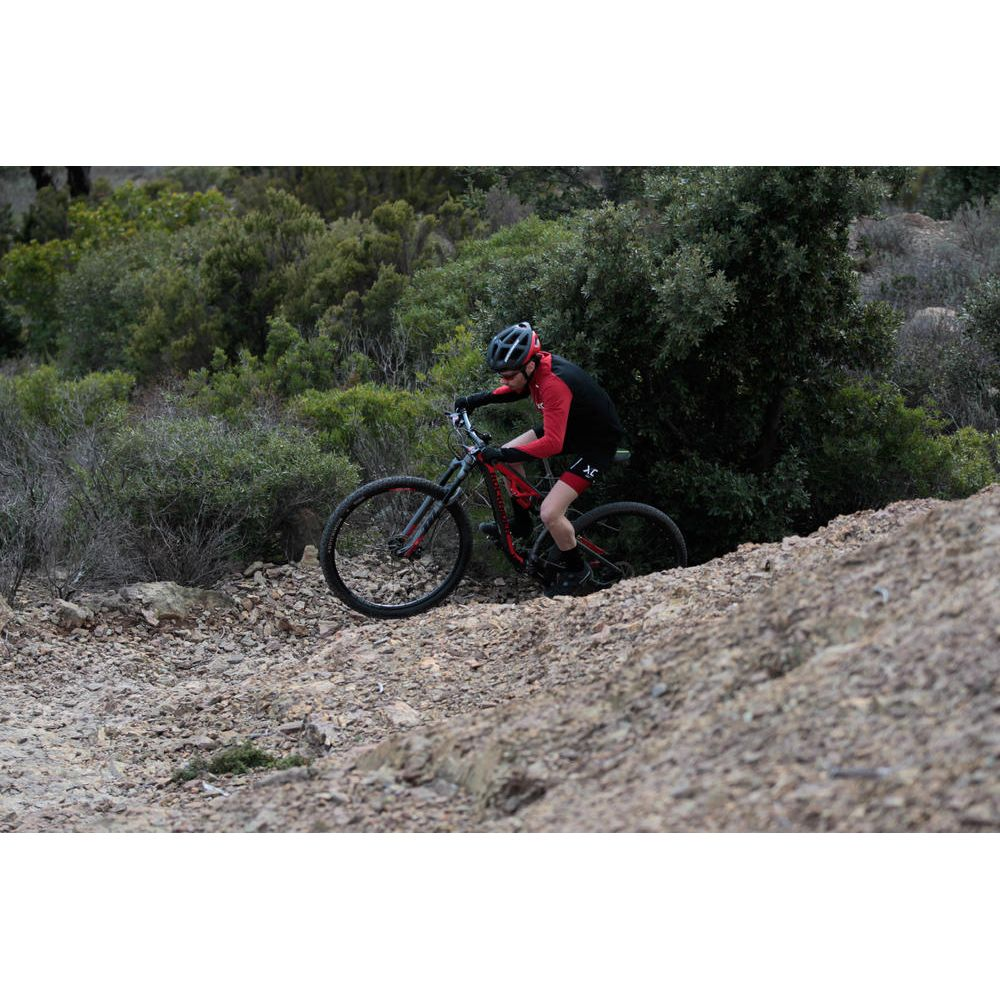MountainBike: (316, 385, 693, 624)
